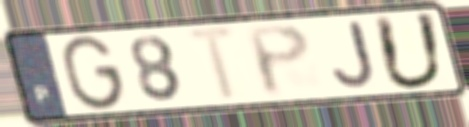8: (128, 33, 186, 104)
G: (59, 33, 128, 114)
J: (330, 18, 378, 92)
P: (242, 21, 314, 99)
T: (183, 23, 244, 105)
U: (370, 10, 449, 92)
